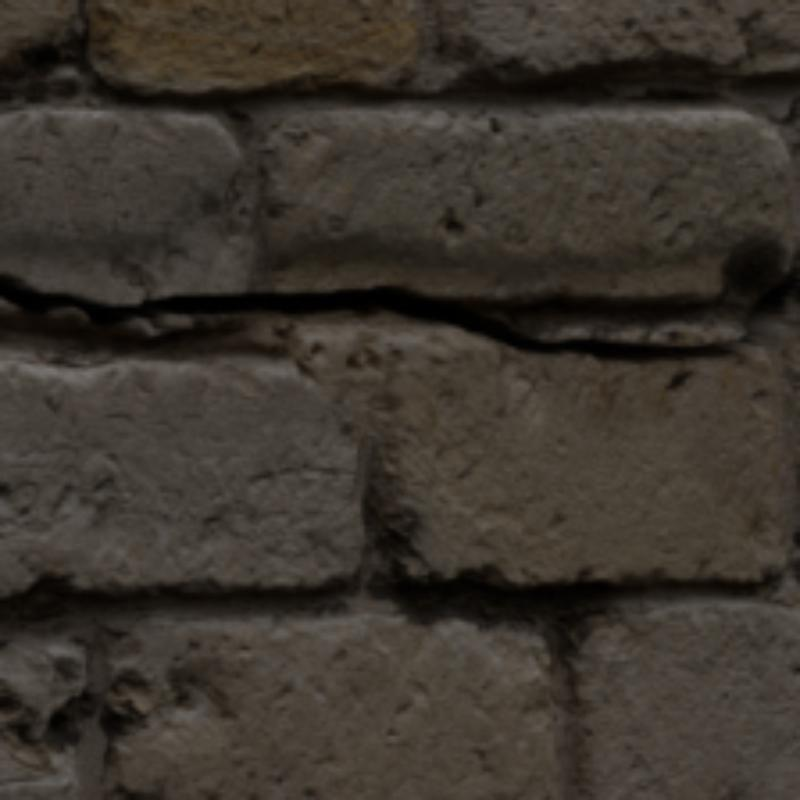pothole: (0, 243, 796, 361)
